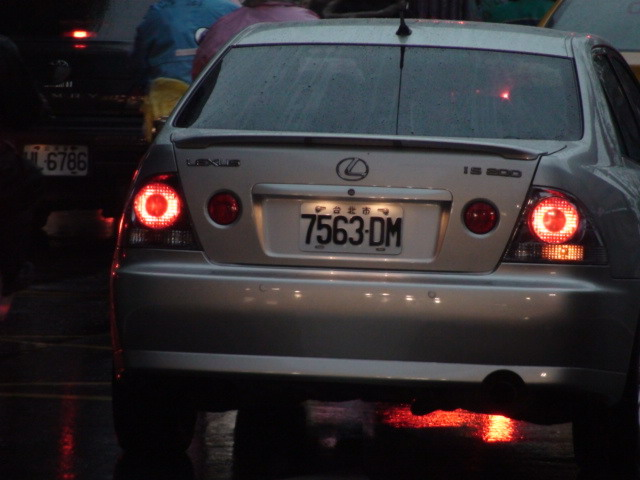plate: (294, 199, 405, 255), (25, 140, 92, 181)
